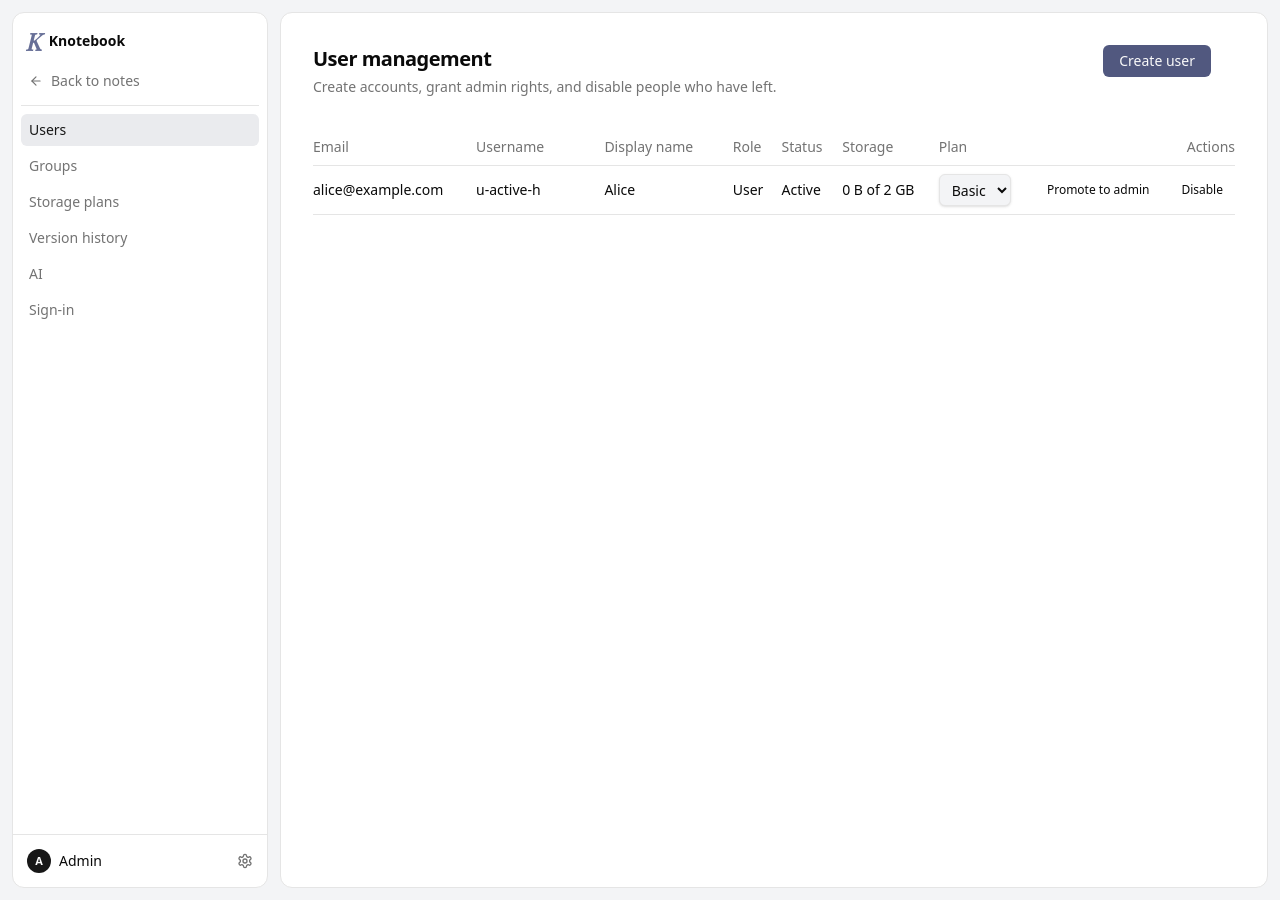
Test: W5 使用者表的儲存空間與方案（spec §9.3） › 改方案：PATCH {planId}；成功後該列下拉顯示新方案
Select "Big" in the dropdown named "Storage plan for alice@example.com": (975, 190) left=939, top=174, right=1011, bottom=206
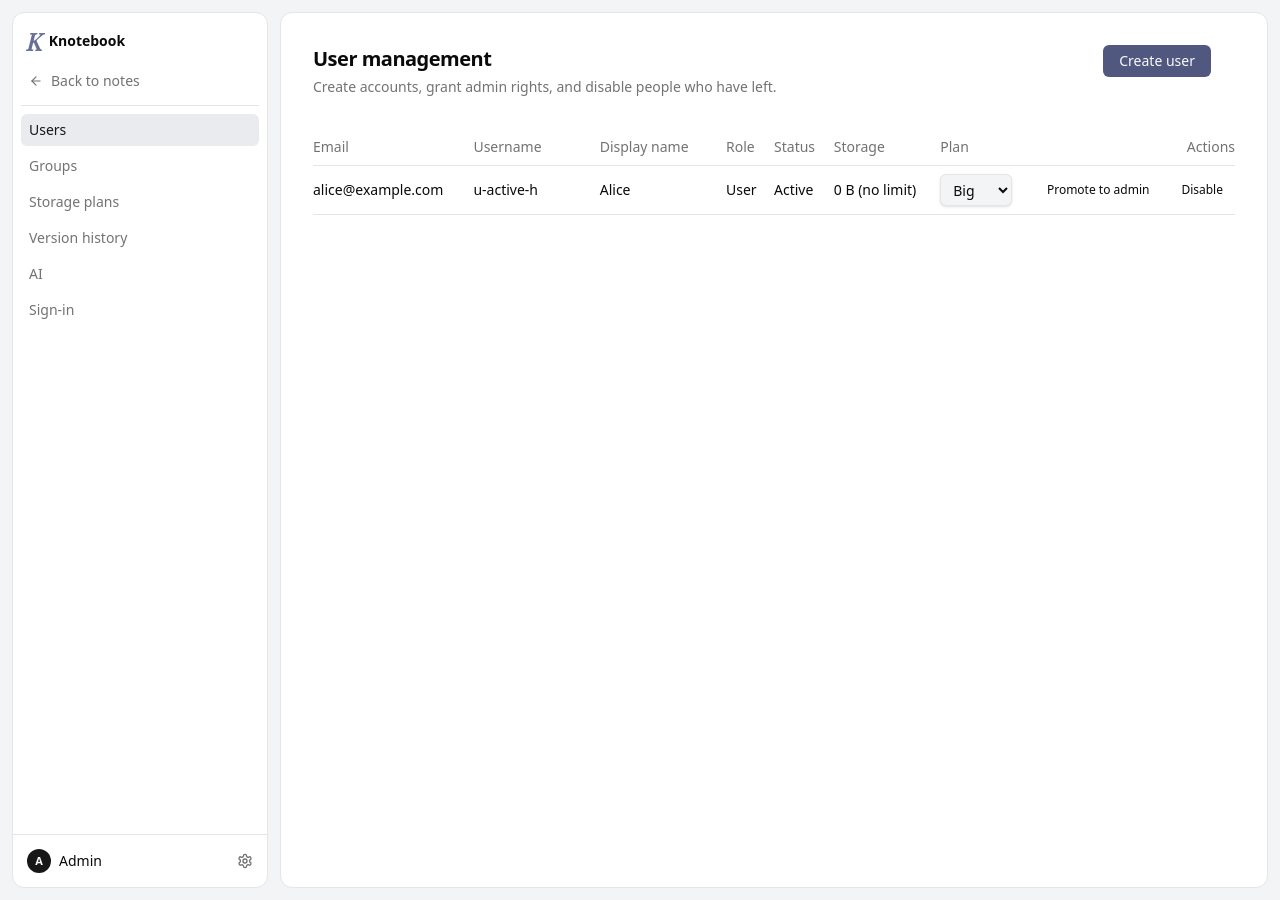
Expected: the text "0 B (no limit)" is shown, left=834, top=180, right=916, bottom=199
